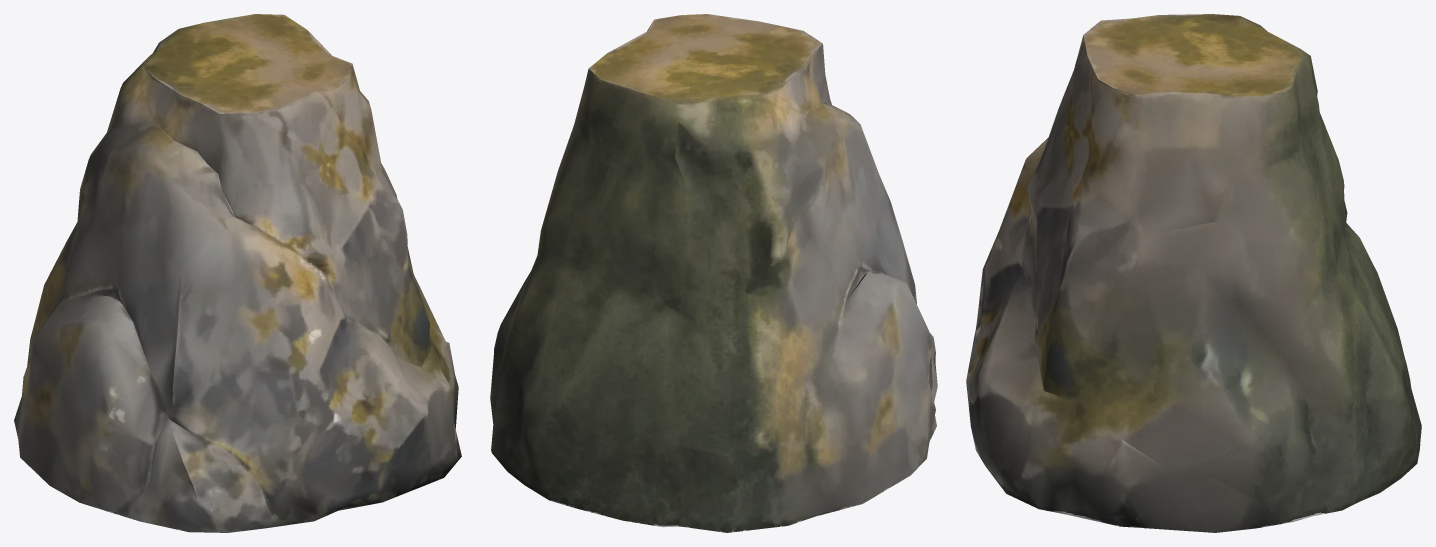
Rendered from boulder-2.glb.
The picture shows the model from 3 angles, left to right: view 1: azimuth 30°, elevation 25°; view 2: azimuth 150°, elevation 25°; view 3: azimuth 270°, elevation 25°; orthographic projection. The views are drawn at different scales.
Visible parts, largest first — view 1: boulder-2.raw; view 2: boulder-2.raw; view 3: boulder-2.raw.
Part boxes in pixels (x1,y1,x2,y2): boulder-2.raw: (14,14,461,532); boulder-2.raw: (490,14,937,532); boulder-2.raw: (966,14,1421,532).
Size of the model in its own units: 2.15 by 2 by 2.14.
1 material, 1 textured.
